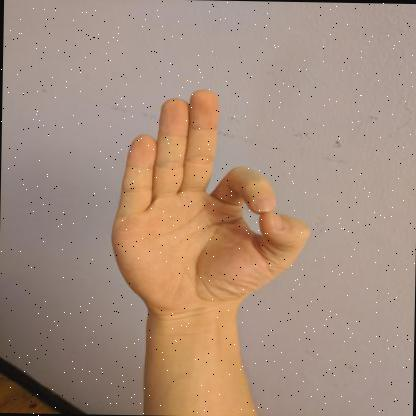F: (111, 89, 310, 321)
